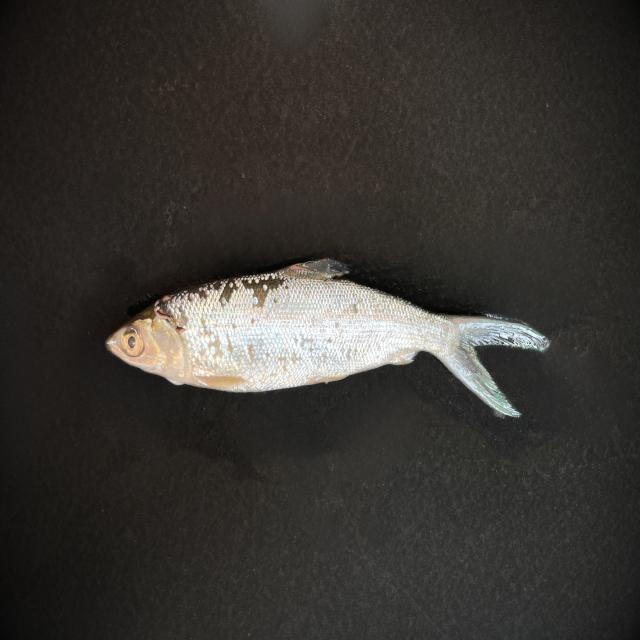580 g: (104, 256, 552, 420)
